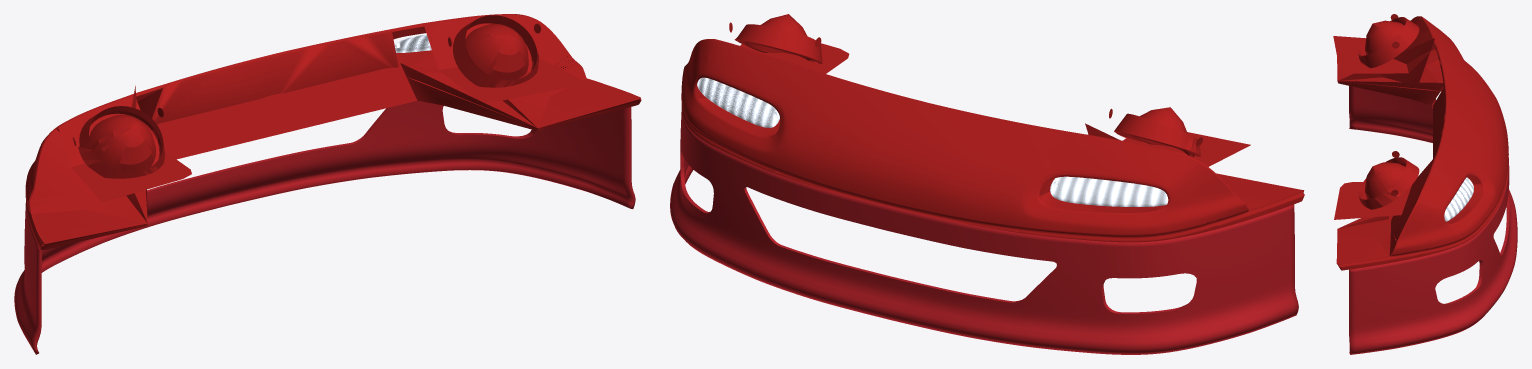
File: wings-west.glb
3 renders of one model, left to right at view 1: azimuth 30°, elevation 25°; view 2: azimuth 150°, elevation 25°; view 3: azimuth 270°, elevation 25°, orthographic. The views are drawn at different scales.
Visible parts, largest first — view 1: WingsWestFront_Miata_Stock_bumper-front.001, WingsWestFront_LowerValance, WingsWestFront_Miata_Stock_bumper-front.002, WingsWestFront_Miata_Lamp_Running_R; view 2: WingsWestFront_LowerValance, WingsWestFront_Miata_Stock_bumper-front.001, WingsWestFront_Miata_Stock_bumper-front.002, WingsWestFront_Miata_Lamp_Running_L, WingsWestFront_Miata_Lamp_Running_R; view 3: WingsWestFront_Miata_Stock_bumper-front.001, WingsWestFront_LowerValance, WingsWestFront_Miata_Stock_bumper-front.002, WingsWestFront_Miata_Lamp_Running_R.
Part boxes in pixels (left/top/right/bottom): WingsWestFront_Miata_Stock_bumper-front.001: left=25, top=14, right=641, bottom=249; WingsWestFront_LowerValance: left=14, top=100, right=635, bottom=354; WingsWestFront_Miata_Stock_bumper-front.002: left=25, top=14, right=641, bottom=246; WingsWestFront_Miata_Lamp_Running_R: left=394, top=34, right=431, bottom=52; WingsWestFront_LowerValance: left=670, top=107, right=1298, bottom=354; WingsWestFront_Miata_Stock_bumper-front.001: left=681, top=14, right=1304, bottom=242; WingsWestFront_Miata_Stock_bumper-front.002: left=681, top=14, right=1304, bottom=231; WingsWestFront_Miata_Lamp_Running_L: left=1050, top=176, right=1168, bottom=206; WingsWestFront_Miata_Lamp_Running_R: left=697, top=77, right=779, bottom=127; WingsWestFront_Miata_Stock_bumper-front.001: left=1337, top=16, right=1508, bottom=270; WingsWestFront_LowerValance: left=1349, top=86, right=1517, bottom=354; WingsWestFront_Miata_Stock_bumper-front.002: left=1333, top=14, right=1500, bottom=266; WingsWestFront_Miata_Lamp_Running_R: left=1444, top=177, right=1473, bottom=221.
Size of the model in its own units: 64.74 by 19.91 by 22.14.
